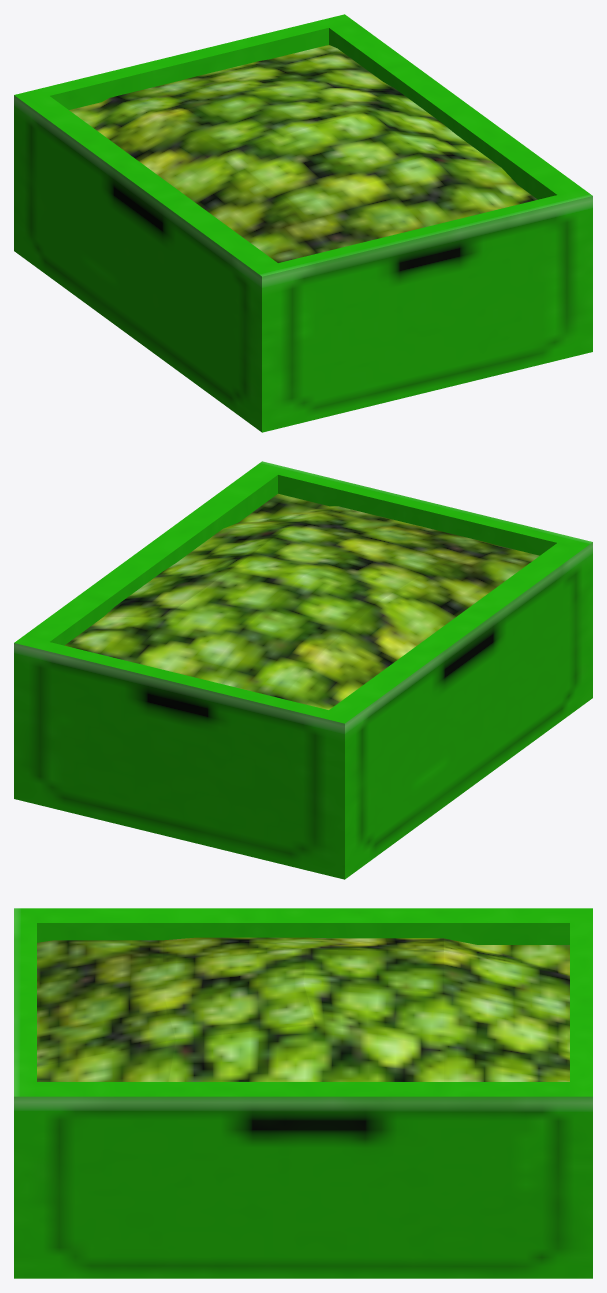
File: FruitsLem.fbx
The picture shows the model from 3 angles, top to bottom: view 1: azimuth 30°, elevation 25°; view 2: azimuth 150°, elevation 25°; view 3: azimuth 270°, elevation 25°; orthographic projection. The views are drawn at different scales.
Parts seen in each view (by area): view 1: box, fruits; view 2: box, fruits; view 3: box, fruits.
Part boxes in pixels (<box>): box: <box>14,14,592,432</box>; fruits: <box>69,45,537,262</box>; box: <box>14,461,592,879</box>; fruits: <box>65,493,539,709</box>; box: <box>14,908,592,1278</box>; fruits: <box>37,937,569,1081</box>.
Bounding box in the file's own units: 62.18 × 30.97 × 80.78.
